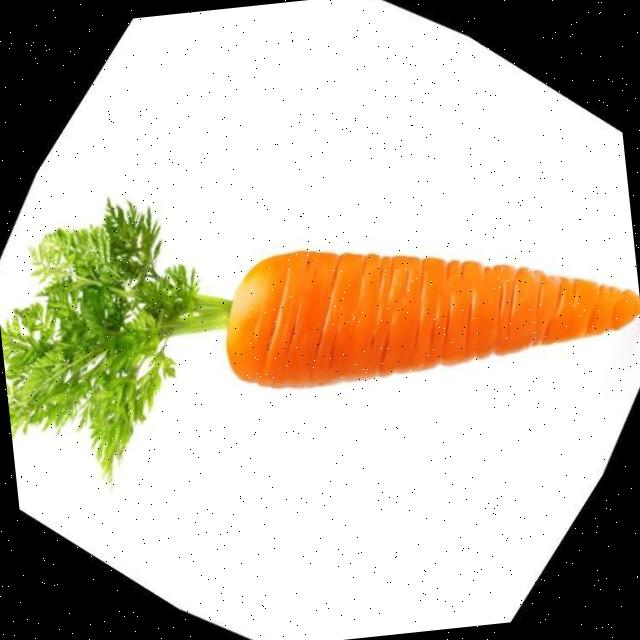carrot: (0, 204, 640, 477)
